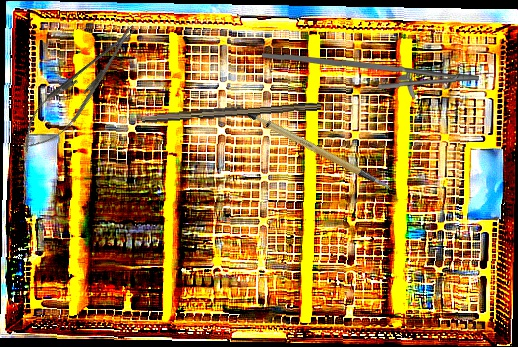Needle Holder: (9, 14, 150, 163), (261, 48, 480, 102)
Scalpel Handle: (244, 92, 393, 212), (140, 97, 322, 126)
